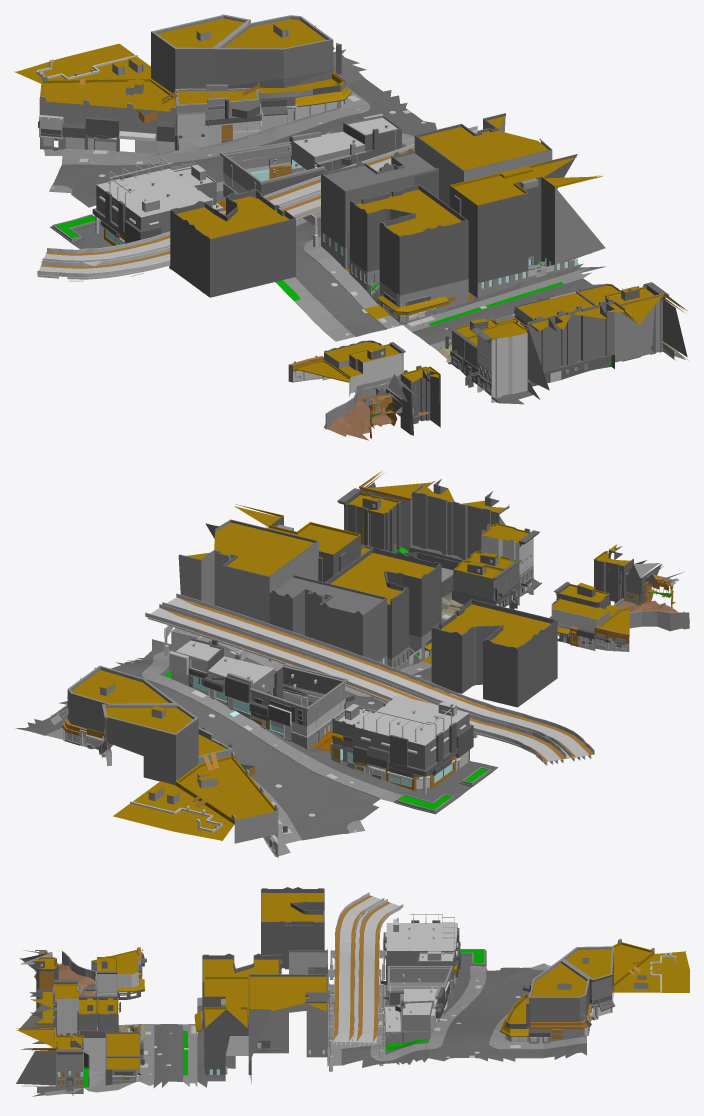
File: bronx_w_7.FBX
3 renders of one model, top to bottom at view 1: azimuth 30°, elevation 25°; view 2: azimuth 150°, elevation 25°; view 3: azimuth 270°, elevation 25°, orthographic. The views are drawn at different scales.
Visible parts, largest first — view 1: unnamed, null; view 2: unnamed, null; view 3: unnamed, null.
Part boxes in pixels (bbox=[...]): unnamed: bbox=[17, 14, 688, 440]; null: bbox=[14, 59, 225, 277]; unnamed: bbox=[15, 470, 689, 840]; null: bbox=[181, 687, 594, 857]; unnamed: bbox=[16, 887, 689, 1096]; null: bbox=[356, 892, 685, 994].
Bounding box in the file's own units: 180 × 45.01 × 281.
